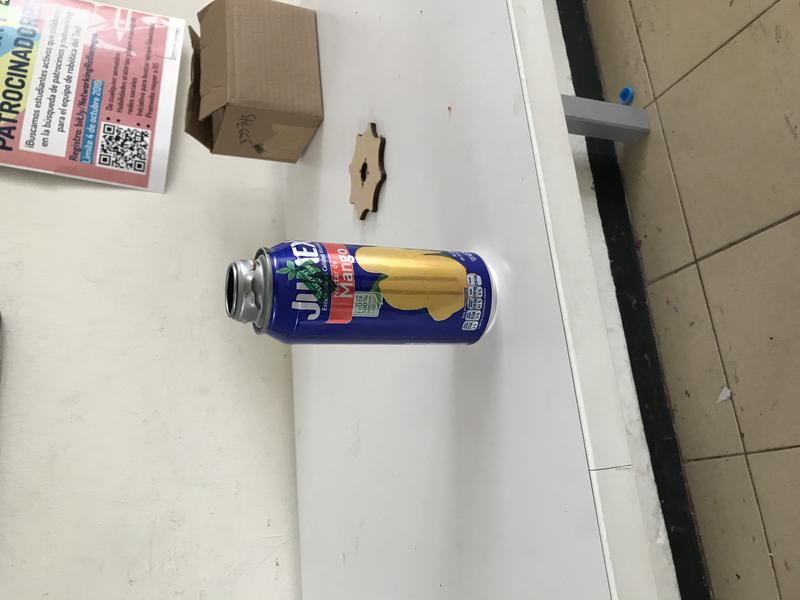jumex_botella: (222, 241, 497, 347)
